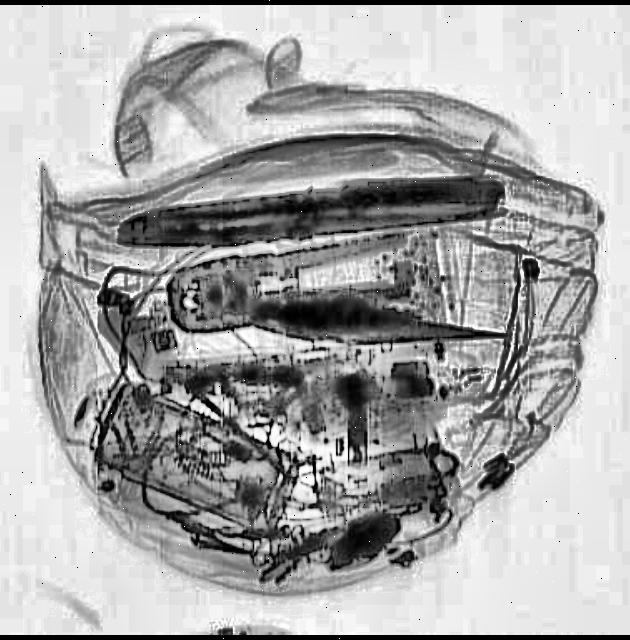Pliers: (164, 218, 508, 362)
